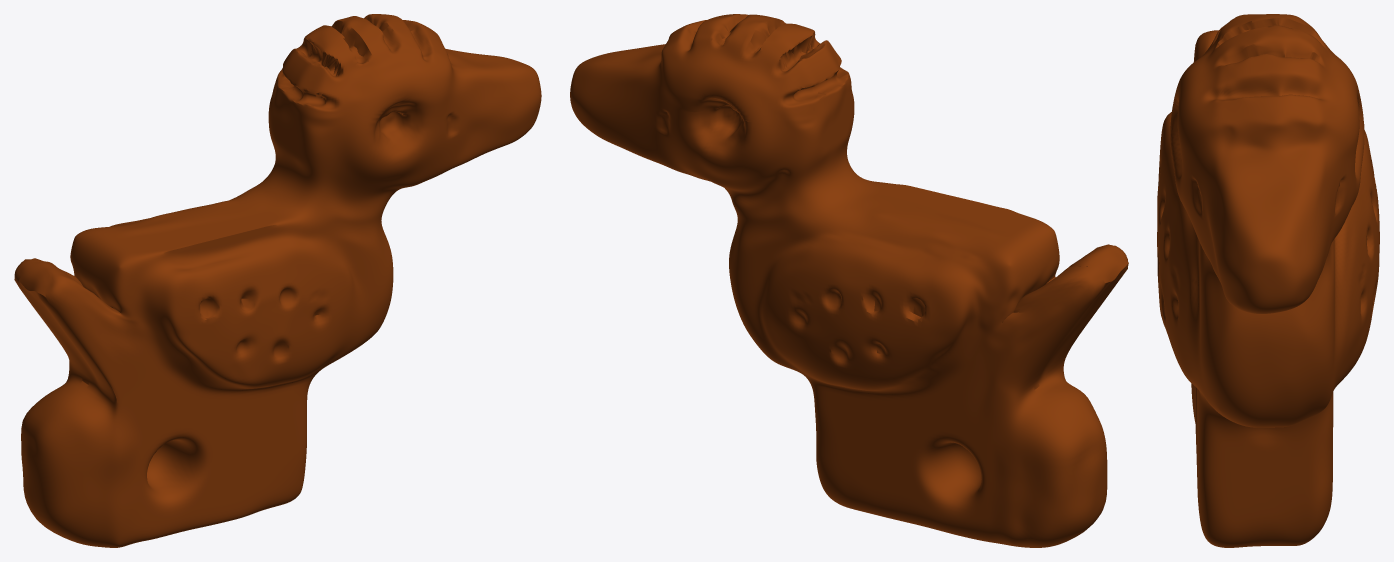
Rendered from ave_con_cresta_jama_coaque.glb.
The picture shows the model from 3 angles, left to right: view 1: azimuth 30°, elevation 25°; view 2: azimuth 150°, elevation 25°; view 3: azimuth 270°, elevation 25°; orthographic projection. The views are drawn at different scales.
Parts seen in each view (by area): view 1: Cubo_2; view 2: Cubo_2; view 3: Cubo_2.
Part boxes in pixels (x1,y1,x2,y2): Cubo_2: [14, 14, 541, 547]; Cubo_2: [570, 14, 1128, 547]; Cubo_2: [1157, 14, 1379, 547].
Bounding box in the file's own units: 325 × 269 × 93.54.
